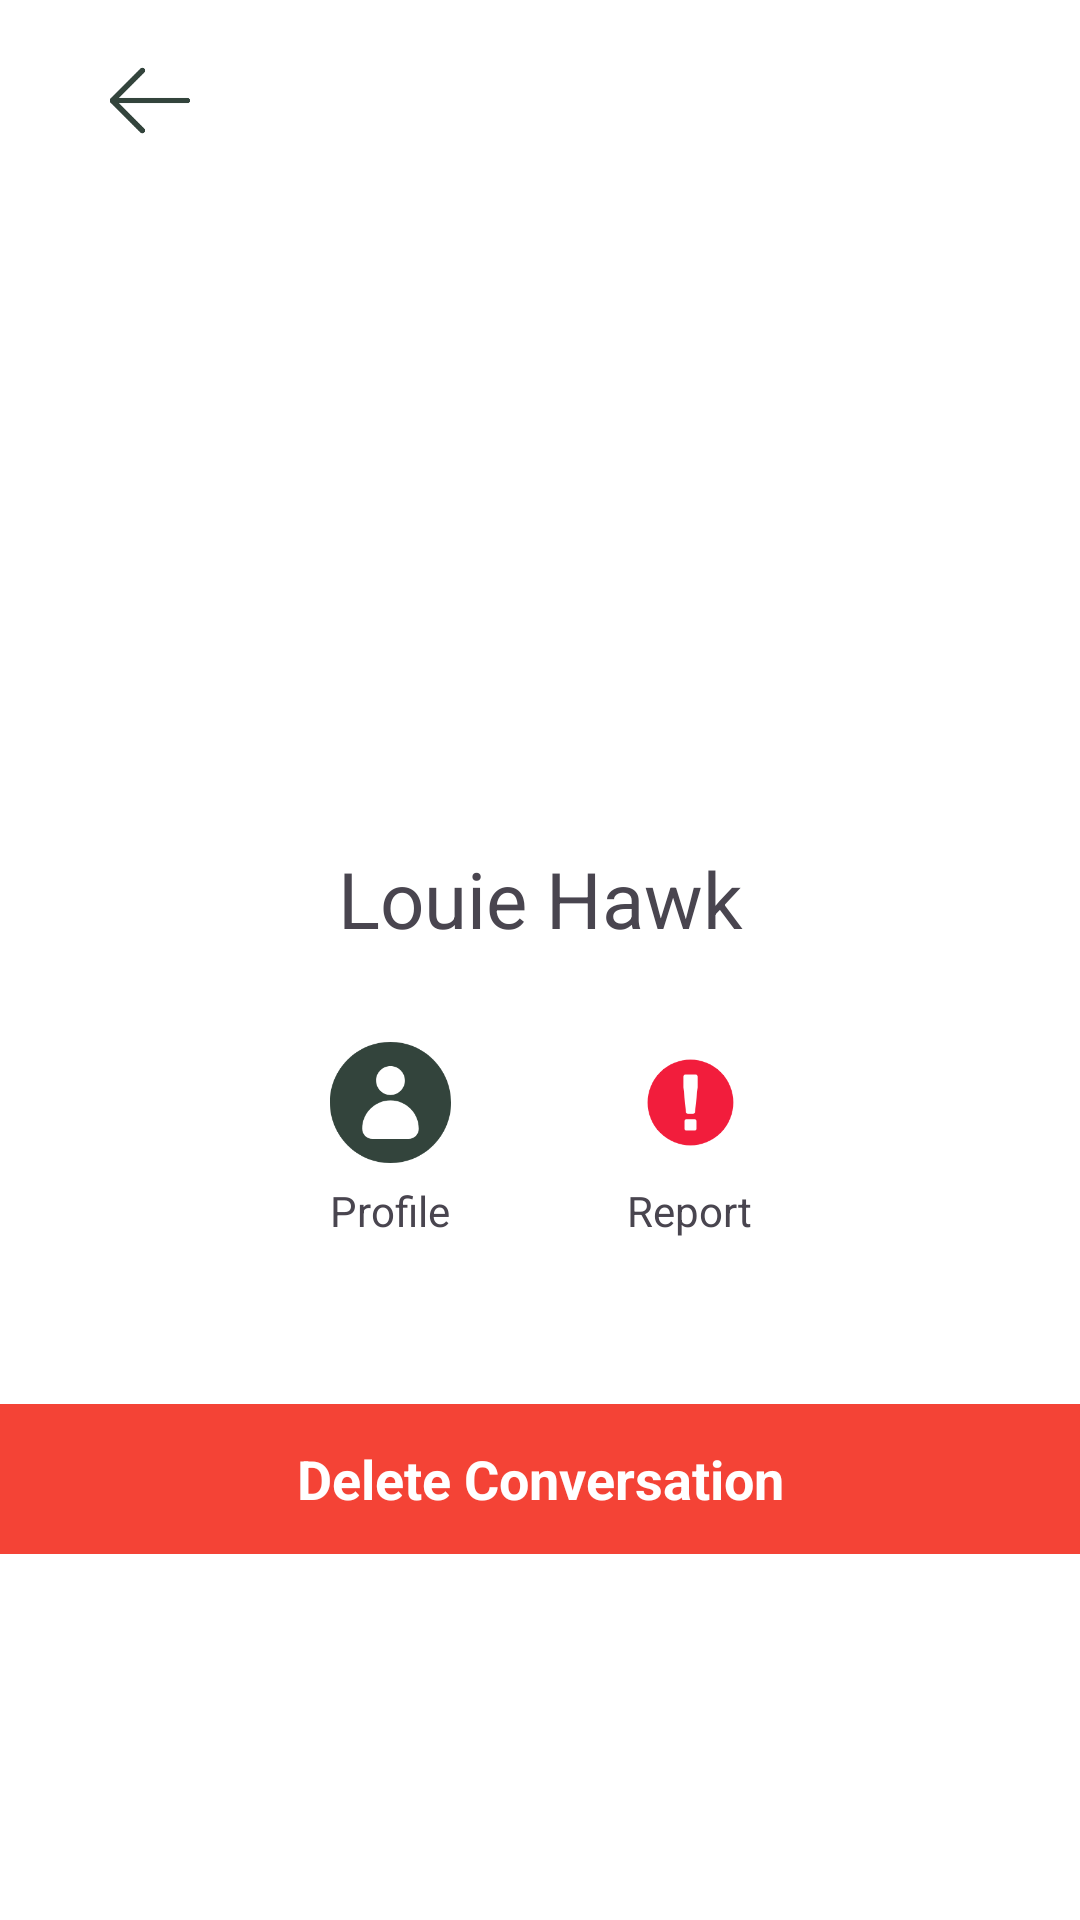

Point at icon controls on the screen. Image size 1080 x 1920, points as (x,y).
back profile: (150,100)
updateuserdets: (390,1135)
